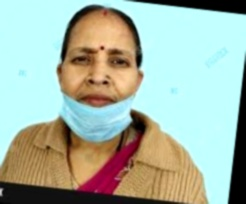mask_weared_incorrect: (60, 18, 139, 134)
